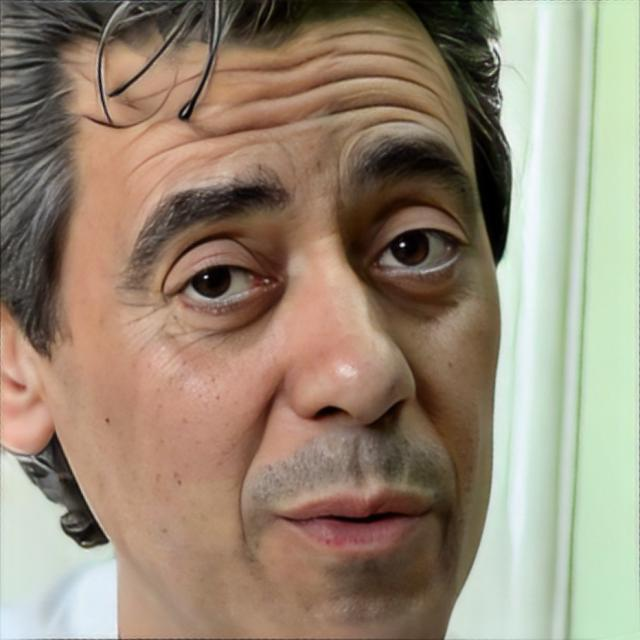surprise: (56, 0, 503, 640)
